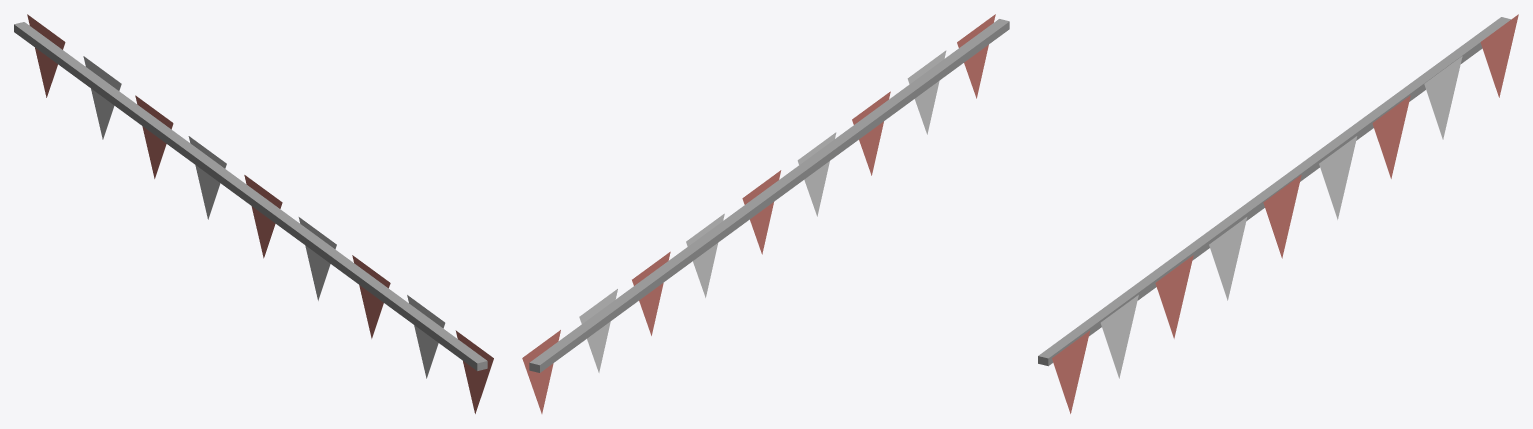
File: flagbanner.fbx
3 views of the same model, side by side, from view 1: azimuth 30°, elevation 25°; view 2: azimuth 150°, elevation 25°; view 3: azimuth 330°, elevation 25° (orthographic).
Parts seen in each view (by area): view 1: pCube2; view 2: pCube2; view 3: pCube2.
Part boxes in pixels (box(x1,y1,x2,y2)): pCube2: box(14, 14, 493, 413); pCube2: box(522, 14, 1009, 413); pCube2: box(1038, 14, 1518, 413).
Bounding box in the file's own units: 0.2273 × 1.05 × 12.02.
